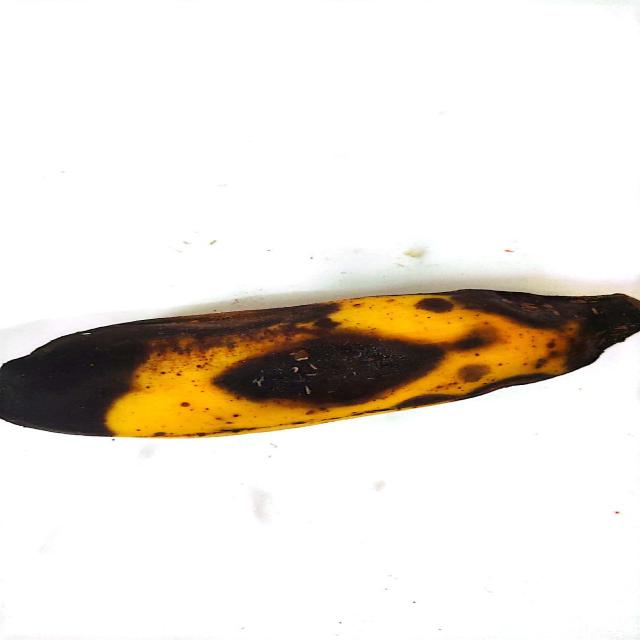rotten_banana: (0, 284, 640, 439)
